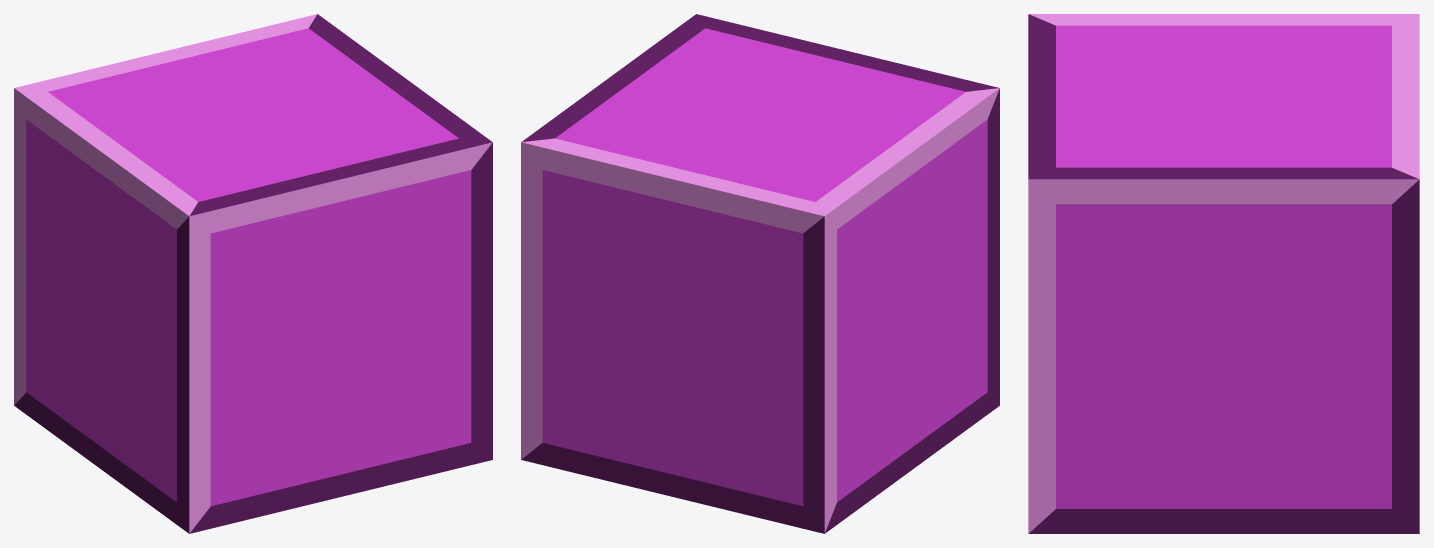
File: single_mino.gltf
3 renders of one model, left to right at view 1: azimuth 30°, elevation 25°; view 2: azimuth 150°, elevation 25°; view 3: azimuth 270°, elevation 25°, orthographic. The views are drawn at different scales.
Visible parts, largest first — view 1: Cube; view 2: Cube; view 3: Cube.
Part boxes in pixels (bbox=[...]): Cube: bbox=[14, 14, 492, 533]; Cube: bbox=[521, 14, 999, 533]; Cube: bbox=[1028, 14, 1419, 533].
Size of the model in its own units: 2 by 2 by 2.
